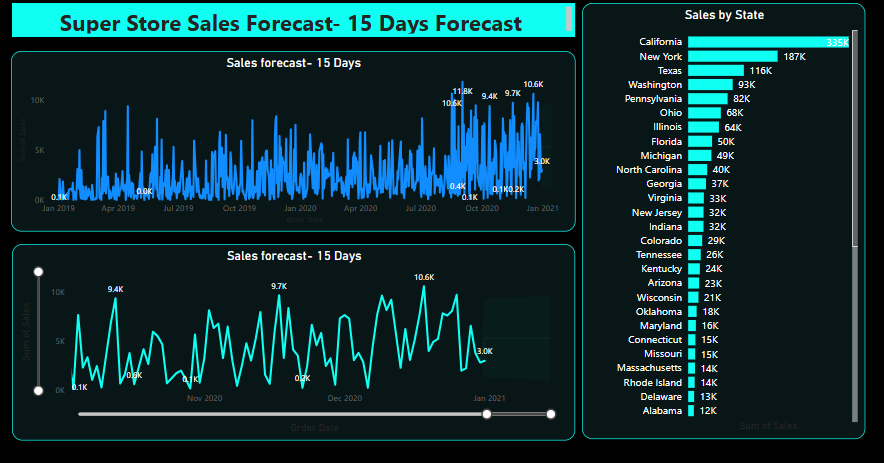

What the dashboard file says about the page in this screenshot:
{"tool":"powerbi","page":{"name":"Page 2","canvas":[1280,720],"ordinal":1},"visuals":[{"type":"lineChart","title":"Sales forecast- 15 Days","fields":{"Y":["Sum(SuperStore_Sales_Dataset.Sales)"],"Category":["SuperStore_Sales_Dataset.Order Date"]},"box":[20.8,81.9,812.5,259.7],"z":0},{"type":"lineChart","title":"Sales forecast- 15 Days","fields":{"Y":["Sum(SuperStore_Sales_Dataset.Sales)"],"Category":["SuperStore_Sales_Dataset.Order Date"]},"box":[22.2,359.7,811.1,283.3],"z":1000},{"type":"clusteredBarChart","title":"Sales by State","fields":{"Y":["Sum(SuperStore_Sales_Dataset.Sales)"],"Category":["SuperStore_Sales_Dataset.State"]},"box":[843.1,12.5,408.3,628],"z":2000},{"type":"textbox","box":[22.2,12.5,811.1,48.6],"z":3000}]}

Visuals, with their boxes on the page's 1280x720 design canvas (x1, y1, x2, y2). These are canvas units, not pixel positions in the 884x463 screenshot, which may show the page scaled, cropped or inside an application window:
"Sales forecast- 15 Days" lineChart: bbox=[21, 82, 833, 342]
"Sales forecast- 15 Days" lineChart: bbox=[22, 360, 833, 643]
"Sales by State" clusteredBarChart: bbox=[843, 12, 1251, 640]
textbox: bbox=[22, 12, 833, 61]
